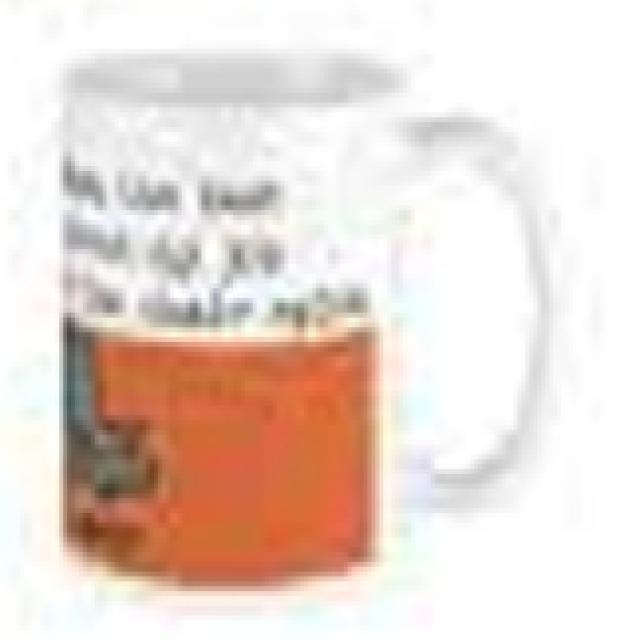taza: (48, 42, 578, 602)
